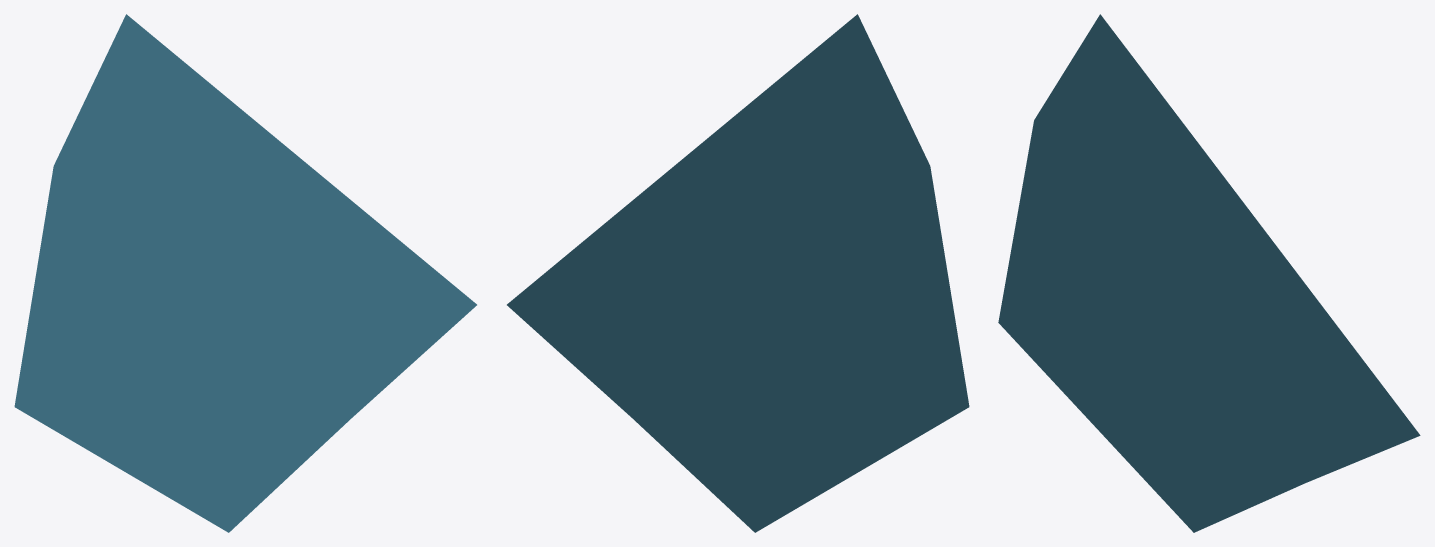
The model's file is NexusA_Cloth_2.fbx.
3 views of the same model, side by side, from view 1: azimuth 30°, elevation 25°; view 2: azimuth 150°, elevation 25°; view 3: azimuth 330°, elevation 25° (orthographic). The views are drawn at different scales.
Visible parts, largest first — view 1: pasted__polySurface37; view 2: pasted__polySurface37; view 3: pasted__polySurface37.
Part boxes in pixels (x1=…): pasted__polySurface37: x1=14, y1=14, x2=476, y2=532; pasted__polySurface37: x1=507, y1=14, x2=969, y2=532; pasted__polySurface37: x1=998, y1=14, x2=1420, y2=532.
Bounding box in the file's own units: 35.82 × 40.21 × 0.
